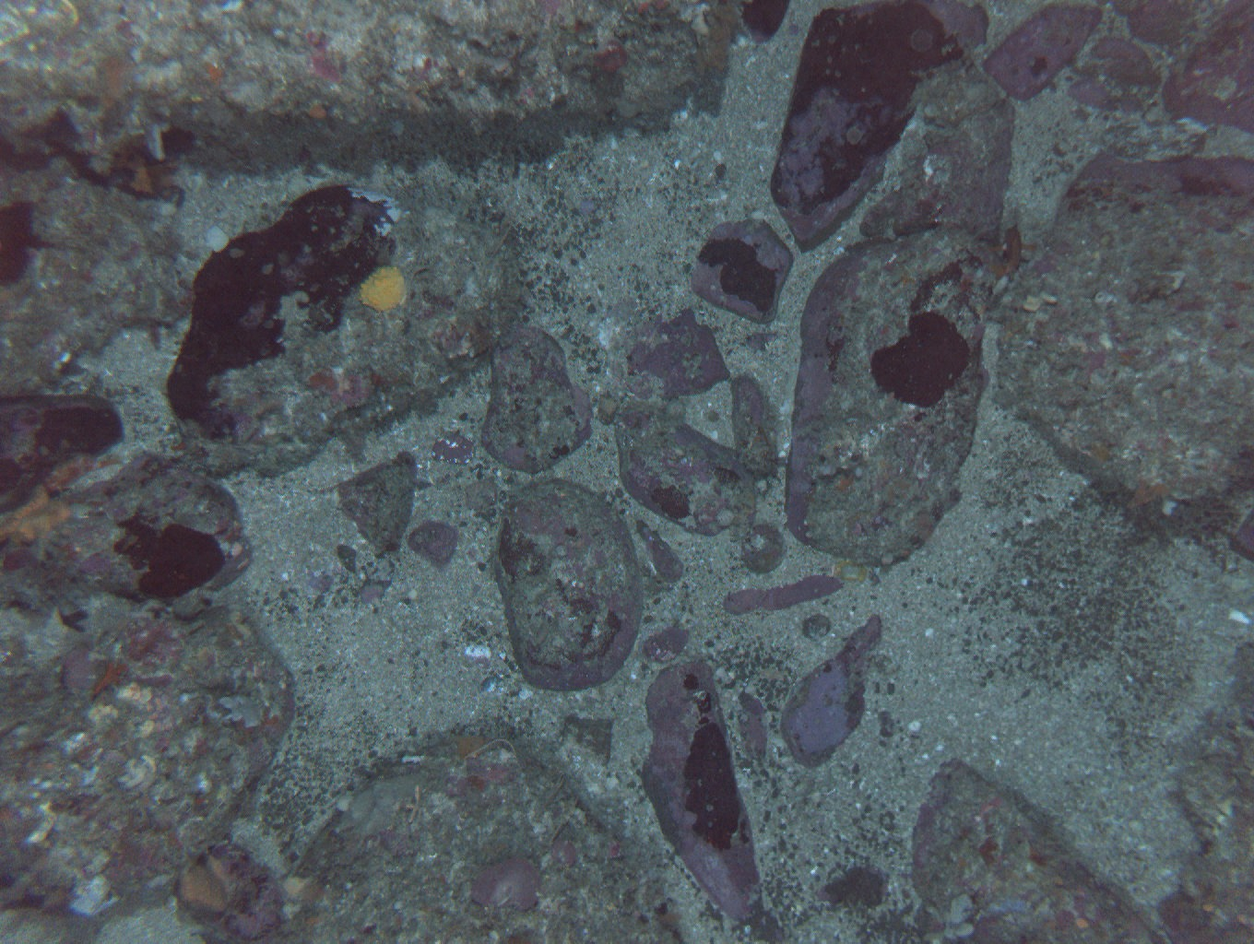Brachionichthyidae: (985, 220, 1037, 279)
